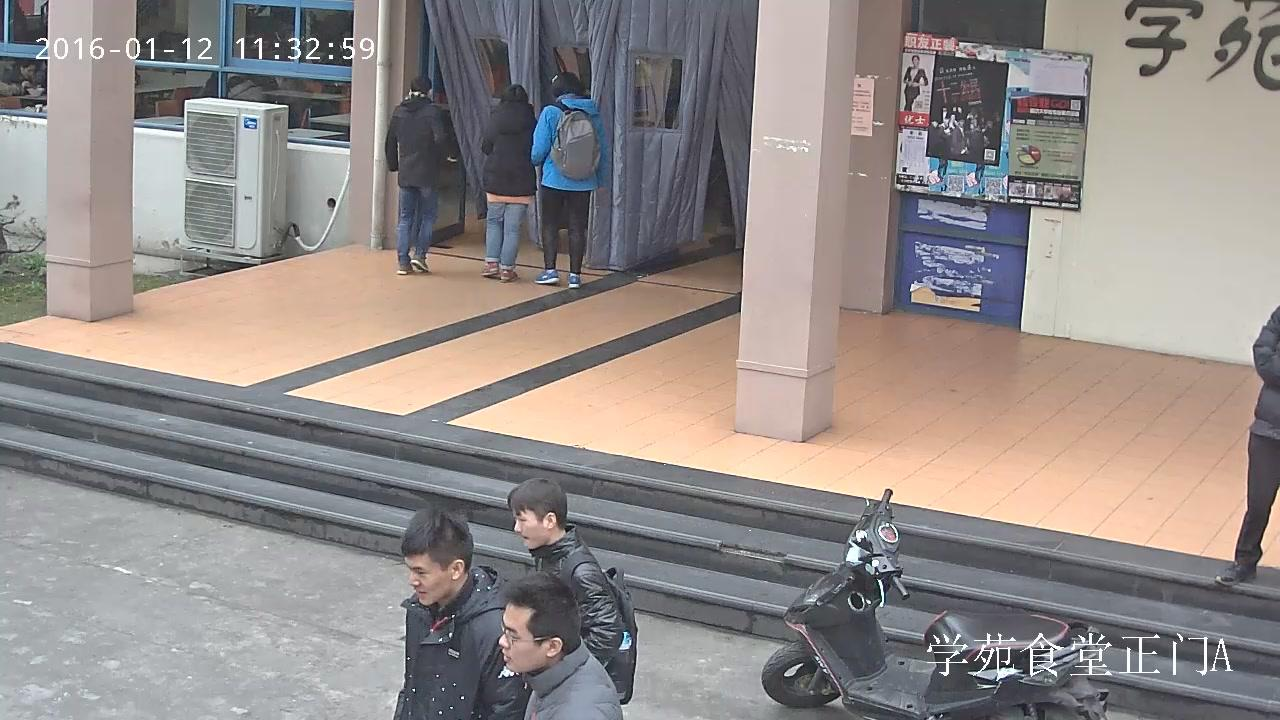person: (391, 507, 531, 720), (508, 478, 637, 706), (498, 570, 622, 720), (1215, 306, 1278, 585), (530, 72, 609, 288), (385, 76, 457, 274), (482, 84, 537, 281), (903, 55, 927, 110)
